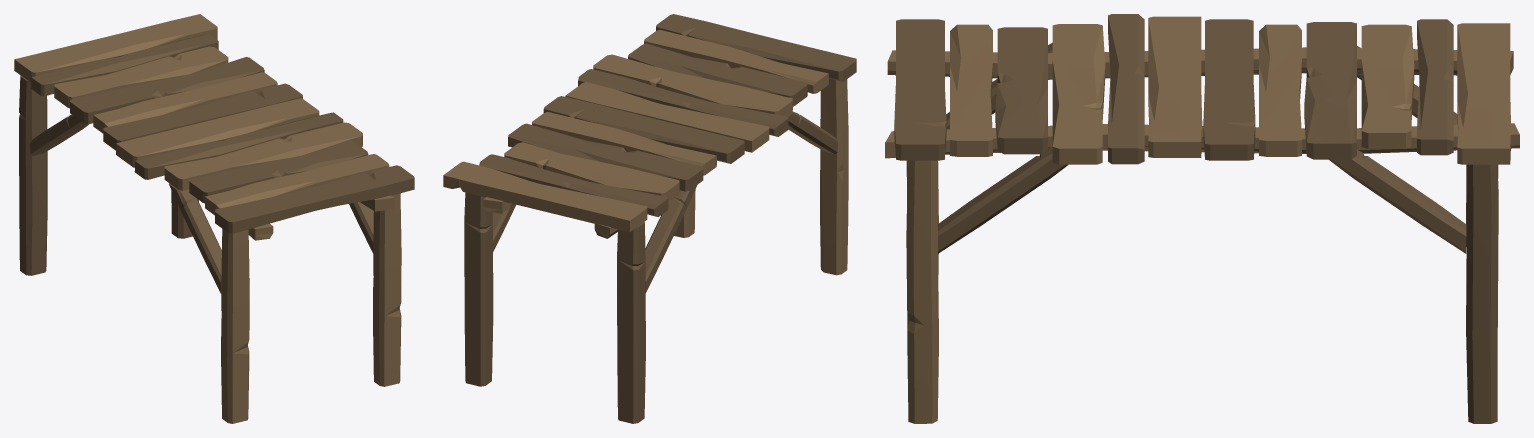
File: Muelle_02.glb
The picture shows the model from 3 angles, left to right: view 1: azimuth 30°, elevation 25°; view 2: azimuth 150°, elevation 25°; view 3: azimuth 270°, elevation 25°; orthographic projection. The views are drawn at different scales.
Visible parts, largest first — view 1: SM_Prop_Fence_Platform_01_1; view 2: SM_Prop_Fence_Platform_01_1; view 3: SM_Prop_Fence_Platform_01_1.
Boxes of the visible parts, x1,y1,x2,y2 form: SM_Prop_Fence_Platform_01_1: (14,14,414,423); SM_Prop_Fence_Platform_01_1: (443,14,856,423); SM_Prop_Fence_Platform_01_1: (885,14,1519,423).
Size of the model in its own units: 2.33 by 2.3 by 4.63.
Materials: 1 (1 with a texture image).
